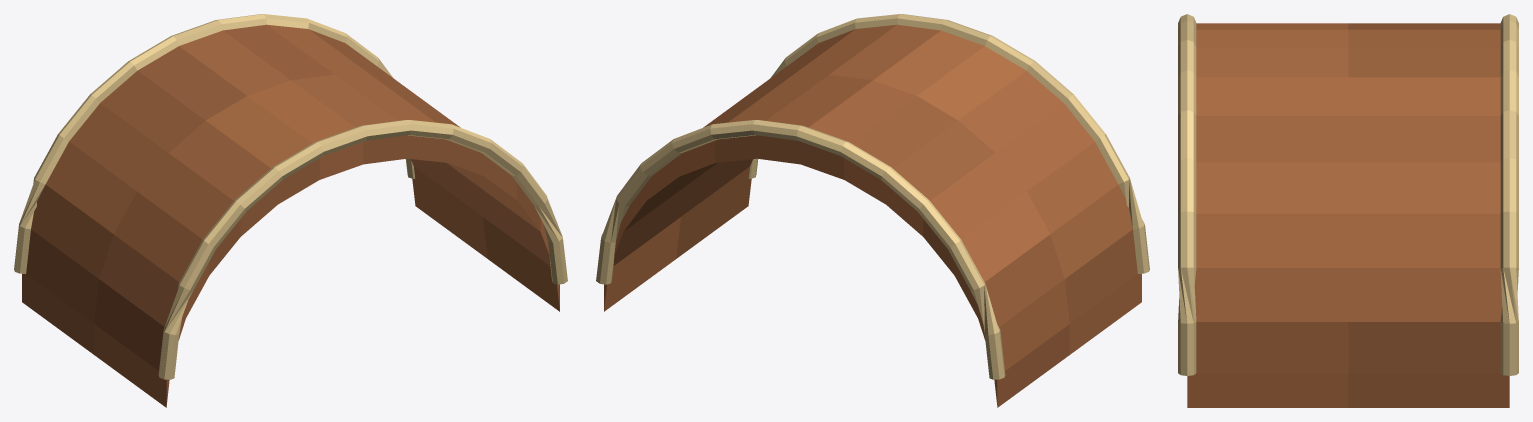
The model's file is ES_05_Bound_Open_Band.fbx.
3 views of the same model, side by side, from view 1: azimuth 30°, elevation 25°; view 2: azimuth 150°, elevation 25°; view 3: azimuth 270°, elevation 25° (orthographic). The views are drawn at different scales.
Visible parts, largest first — view 1: ES_05_Bound_Open_Band; view 2: ES_05_Bound_Open_Band; view 3: ES_05_Bound_Open_Band.
Part boxes in pixels (bbox=[...]): ES_05_Bound_Open_Band: bbox=[14, 14, 567, 407]; ES_05_Bound_Open_Band: bbox=[596, 14, 1149, 407]; ES_05_Bound_Open_Band: bbox=[1178, 14, 1518, 407].
Size of the model in its own units: 1.03 by 0.563 by 0.666.
Materials: 2 (2 with a texture image).
